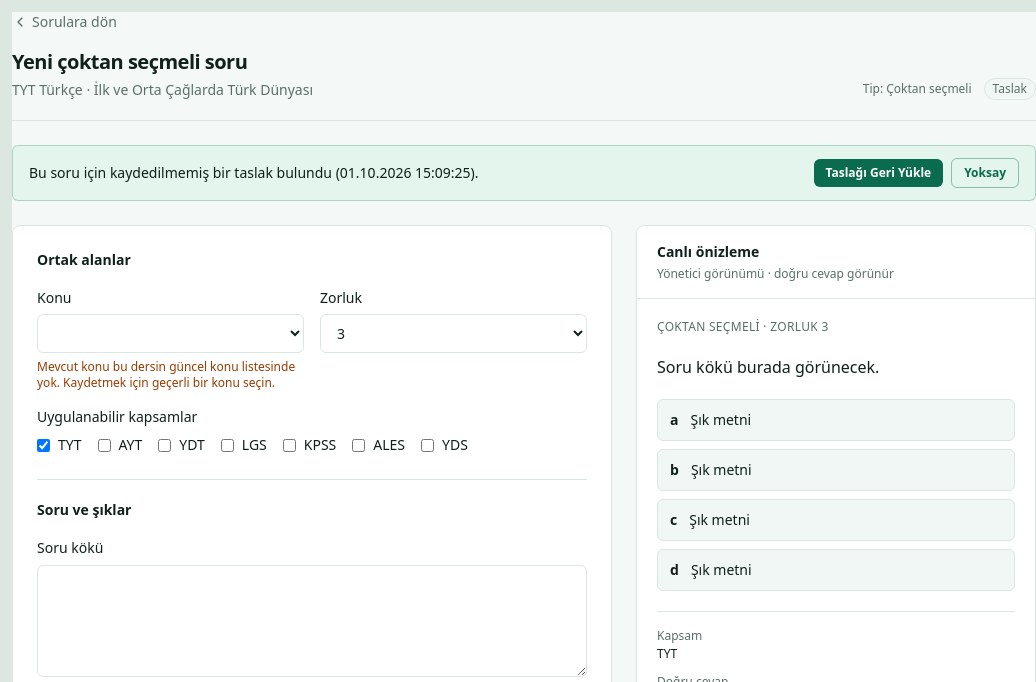
Scenario: exercise editor draft recovery › restoring the draft fills the form and dismisses the banner
Expected: the text "kaydedilmemiş bir taslak bulundu" is shown, [29,162,340,182]
Click the button "Taslağı Geri Yükle": (878, 172) [814,158,943,186]
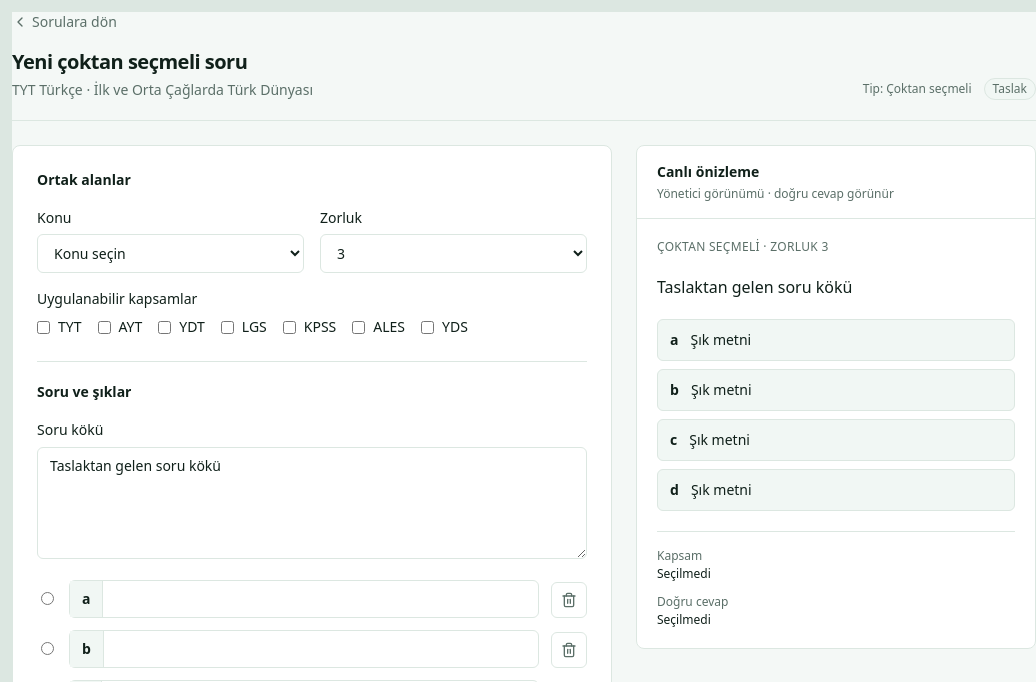
Expected: the text "kaydedilmemiş bir taslak bulundu" is gone
Expected: the text box labelled "Soru kökü" holds "Taslaktan gelen soru kökü", [37,446,587,558]
